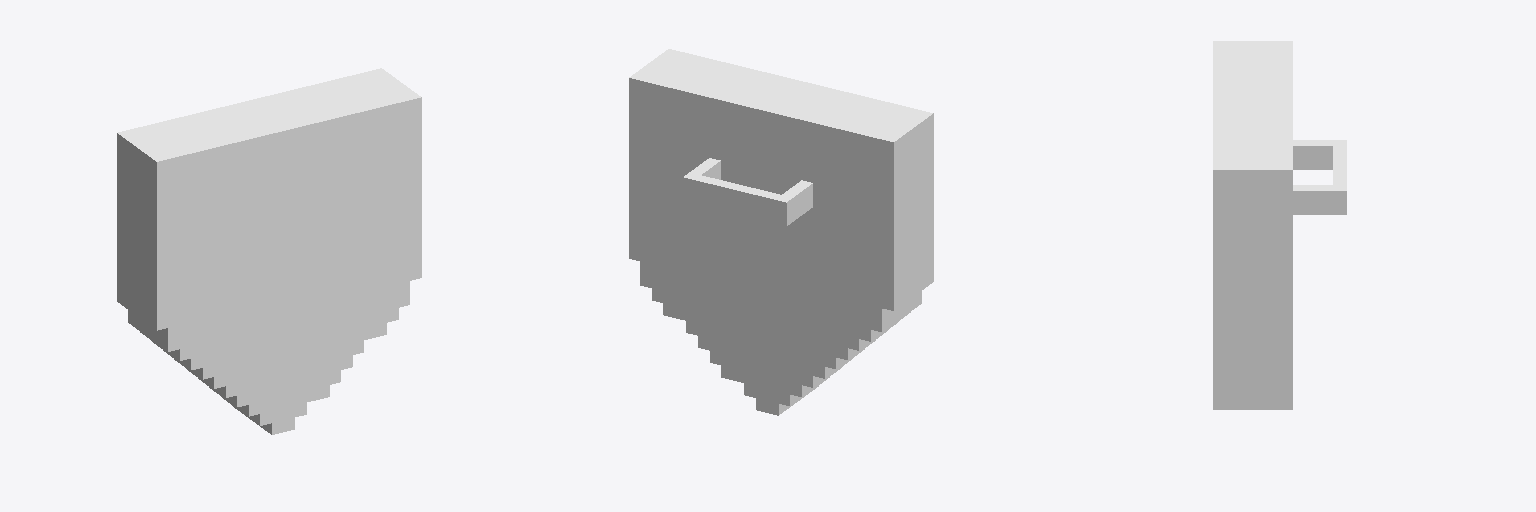
Rendered from Sheild.obj.
3 renders of one model, left to right at view 1: azimuth 30°, elevation 25°; view 2: azimuth 150°, elevation 25°; view 3: azimuth 270°, elevation 25°, orthographic.
Bounding box in the file's own units: 23 × 25 × 10.